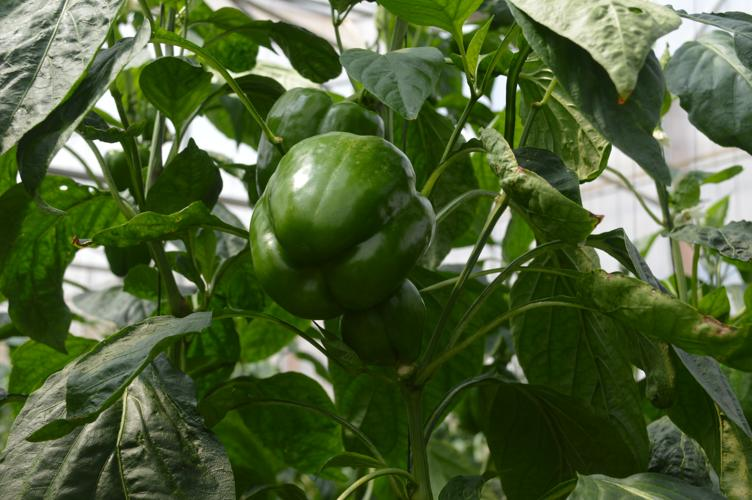BellPepper: (244, 133, 442, 304), (251, 89, 383, 185), (335, 272, 428, 365)
